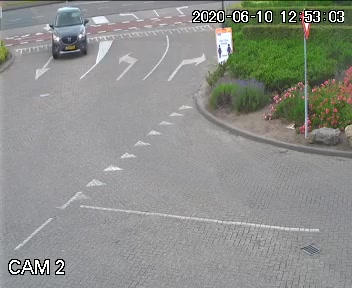car: (47, 3, 99, 67)
